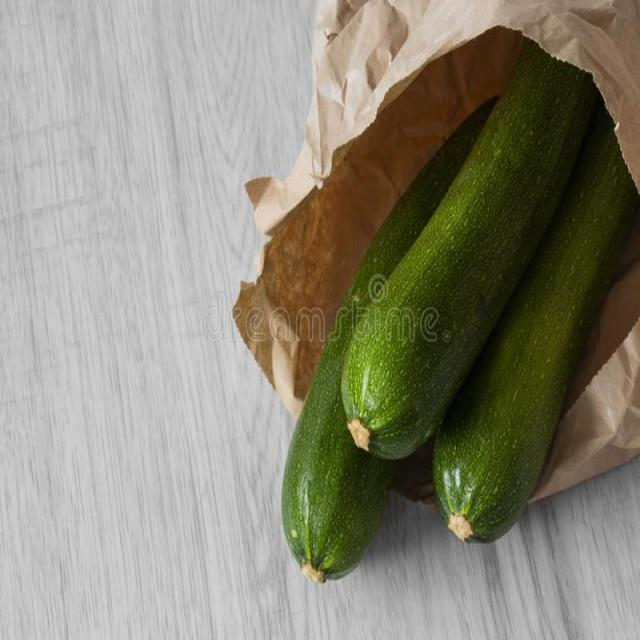Organic: (289, 35, 631, 592)
PaperCardboard: (227, 0, 640, 523)
